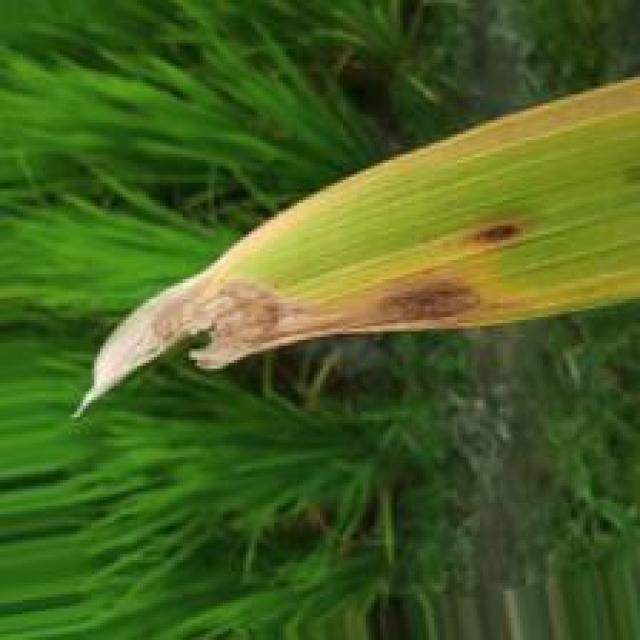Narrow_Brown_Leaf_Spot: (74, 216, 640, 412)
